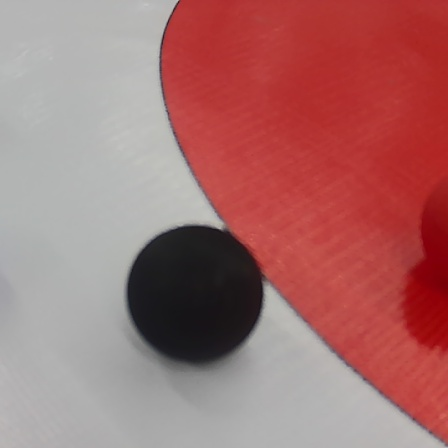black: (115, 219, 271, 364)
red: (420, 172, 448, 273)
red_base: (164, 1, 448, 448)
